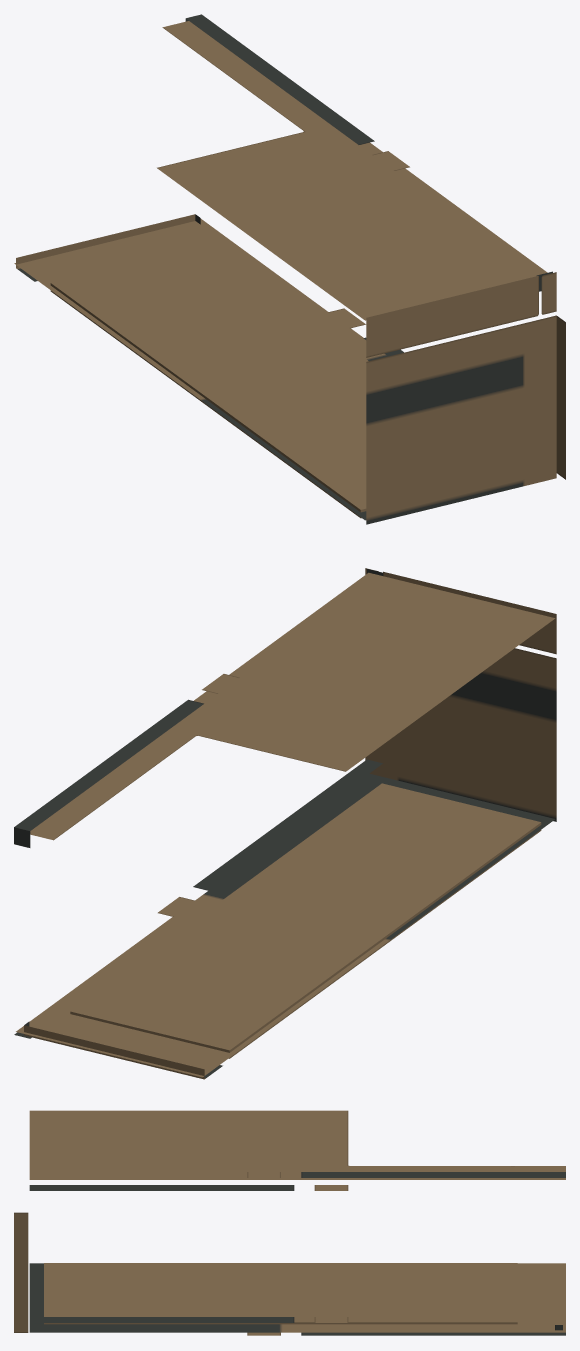
Rendered from section-5.obj.
The picture shows the model from 3 angles, top to bottom: view 1: azimuth 30°, elevation 25°; view 2: azimuth 150°, elevation 25°; view 3: azimuth 270°, elevation 25°; orthographic projection. The views are drawn at different scales.
Size of the model in its own units: 0.5885 by 0.641 by 1.93.
